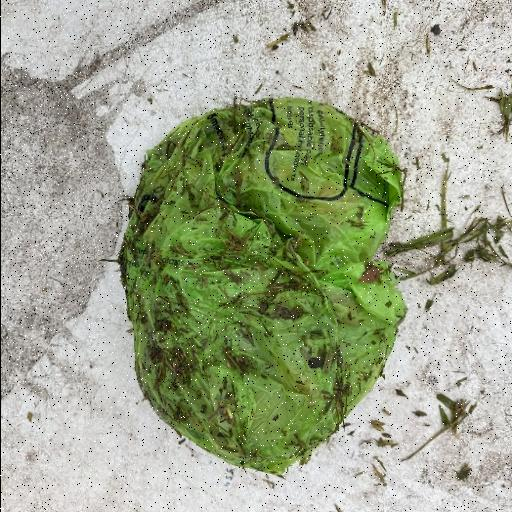Waste: (116, 95, 408, 477)
